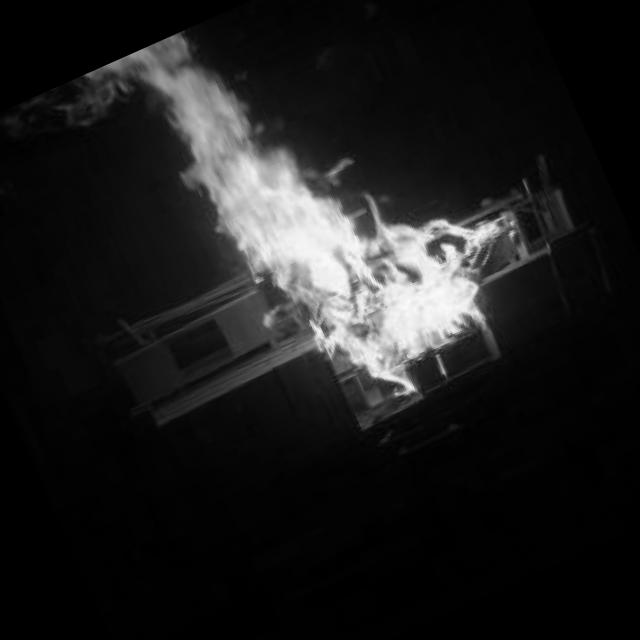fire: (119, 0, 549, 447)
